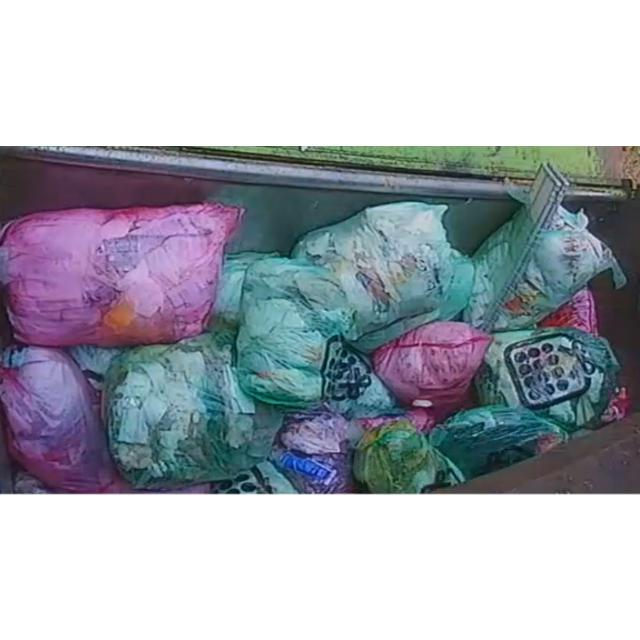general_trashbag: (102, 331, 284, 488), (464, 164, 626, 330), (293, 201, 454, 334), (236, 256, 351, 406), (475, 328, 619, 431), (429, 405, 569, 478), (354, 418, 465, 492), (321, 335, 395, 417)
other_trashbag: (0, 202, 244, 345), (0, 345, 115, 491), (372, 321, 491, 419), (270, 410, 354, 492)
